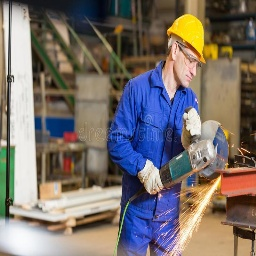helmet: (166, 12, 215, 66)
no-vest: (107, 75, 200, 231)
person: (106, 12, 207, 256)
